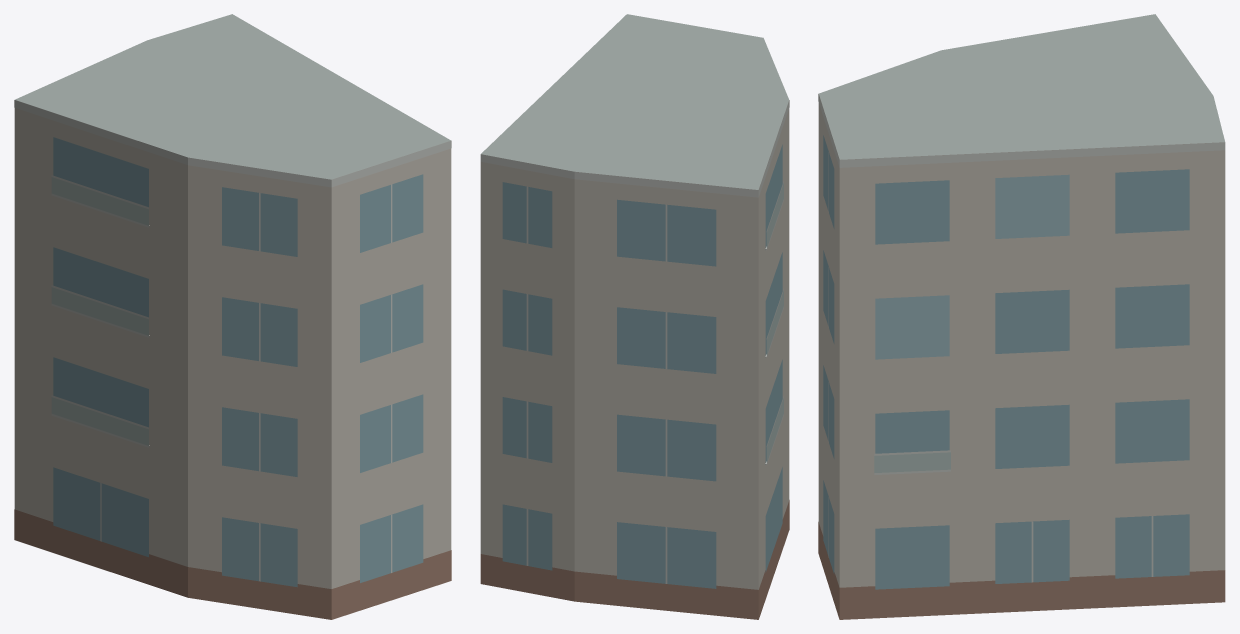
File: survey-upis-32480947.glb
The picture shows the model from 3 angles, left to right: view 1: azimuth 30°, elevation 25°; view 2: azimuth 150°, elevation 25°; view 3: azimuth 270°, elevation 25°; orthographic projection. The views are drawn at different scales.
Visible parts, largest first — view 1: survey-upis-32480947.tmp; view 2: survey-upis-32480947.tmp; view 3: survey-upis-32480947.tmp.
Part boxes in pixels (bbox=[...]): survey-upis-32480947.tmp: bbox=[14, 14, 451, 619]; survey-upis-32480947.tmp: bbox=[480, 14, 789, 619]; survey-upis-32480947.tmp: bbox=[818, 14, 1225, 619].
Bounding box in the file's own units: 9.39 × 13.8 × 11.07.
